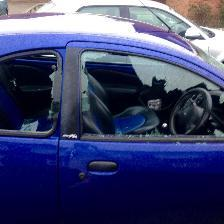glass_shatter: (84, 44, 222, 150)
